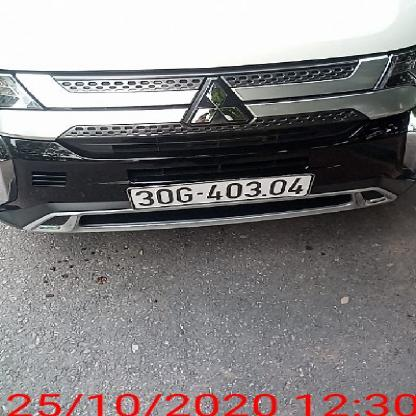biensoxe: (123, 164, 325, 214)
